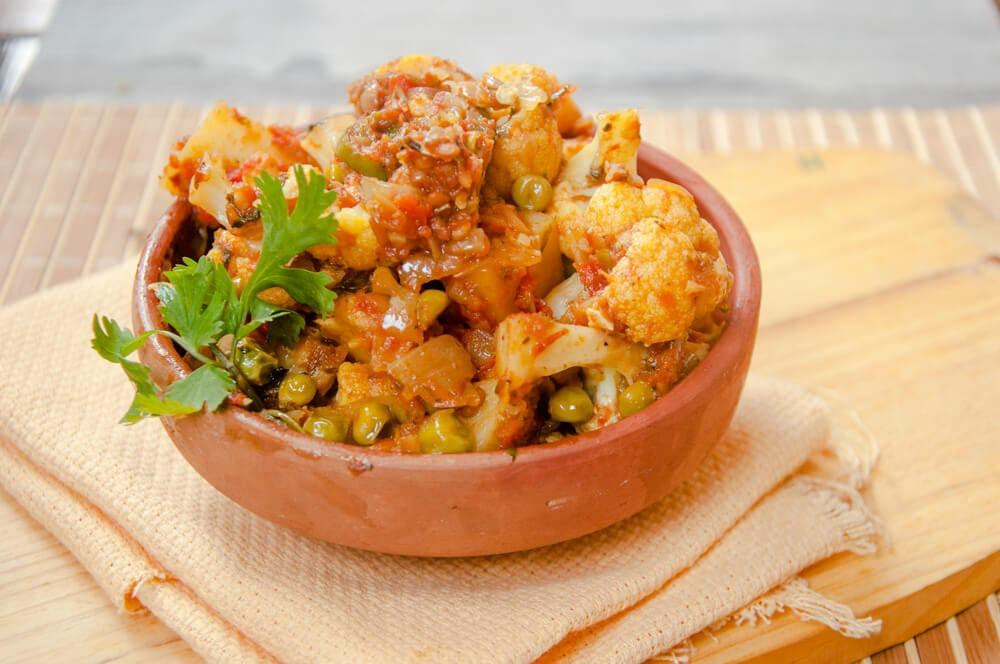AlooGobi: (163, 52, 731, 453)
